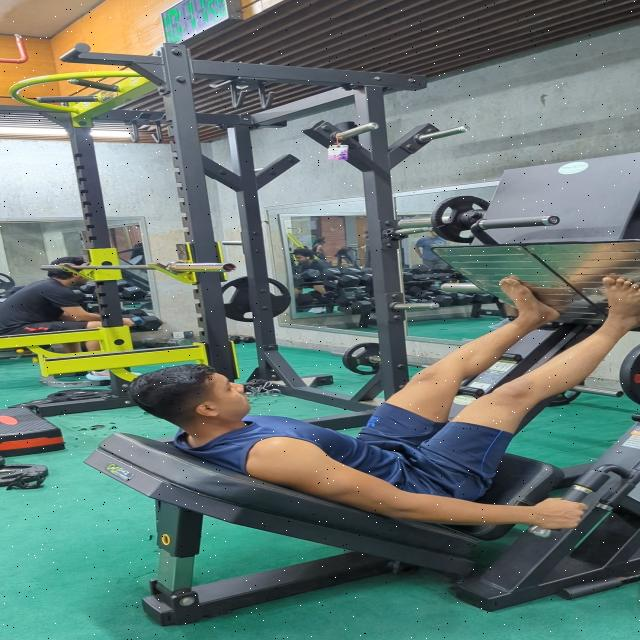Normal_LegPress: (148, 275, 640, 533)
